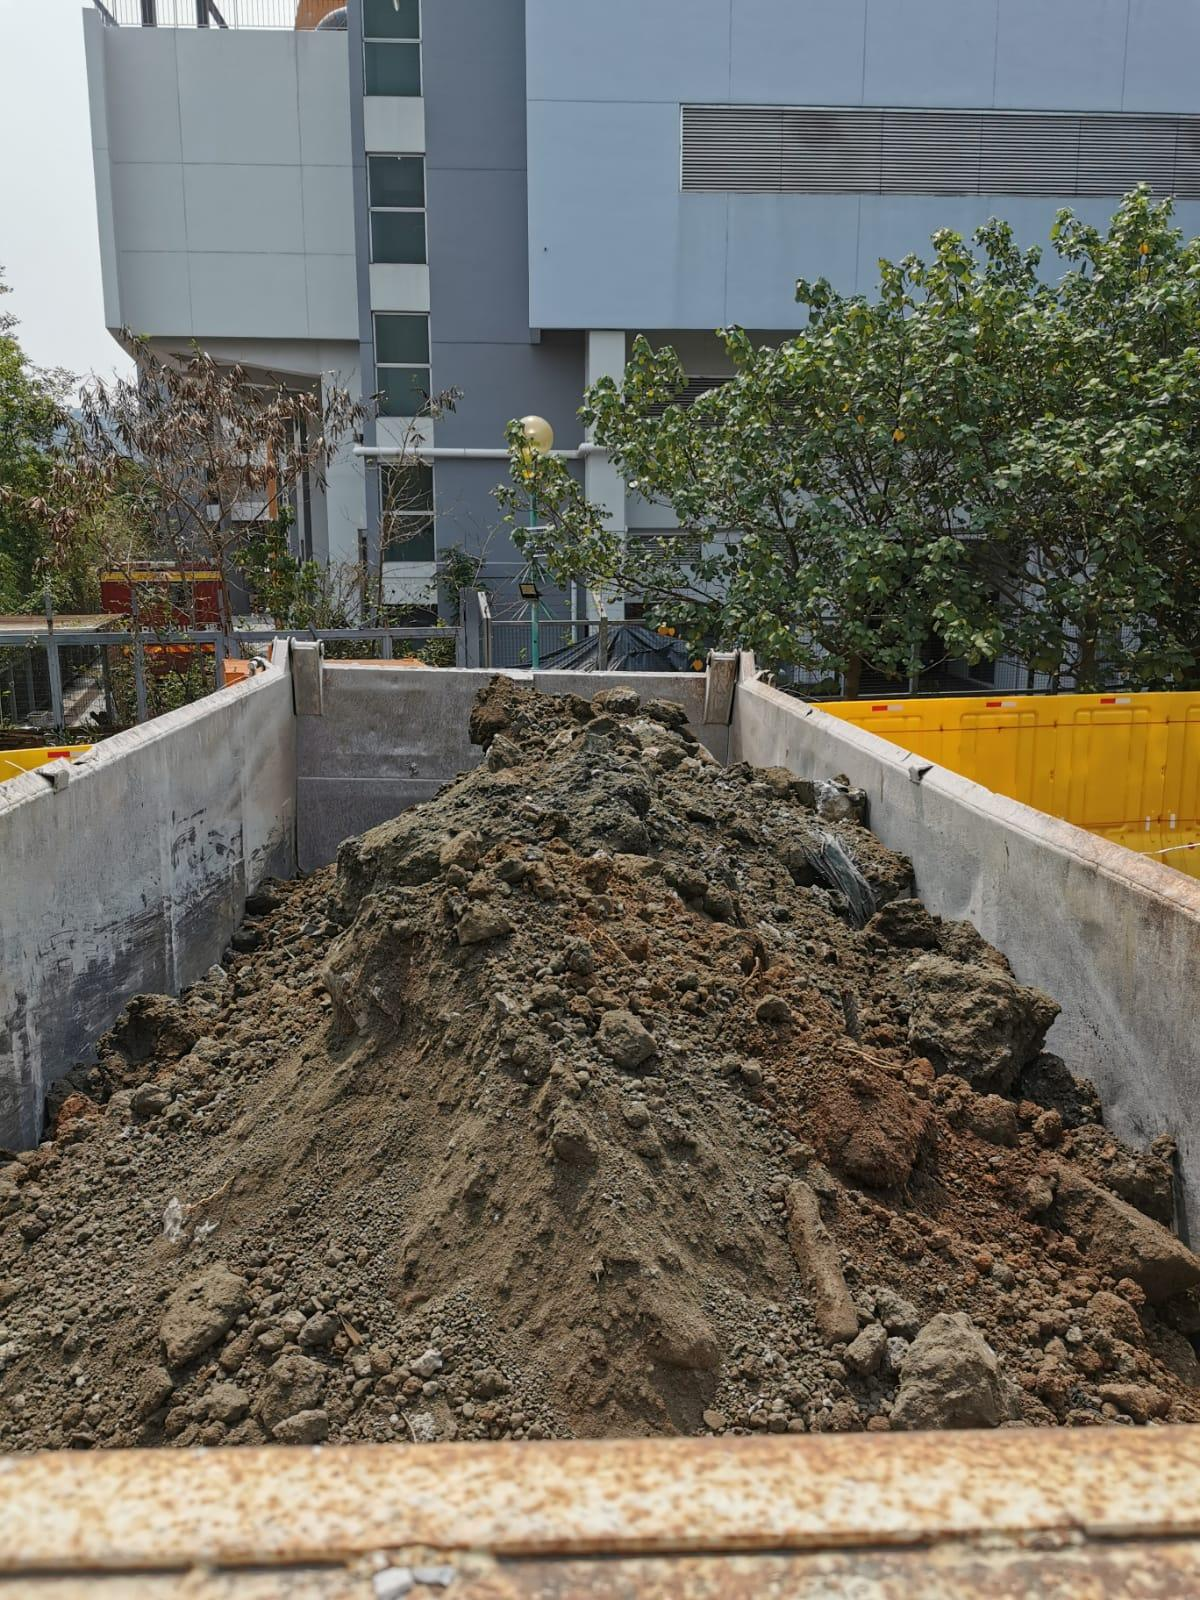dirt: (1, 672, 1197, 1448)
stone: (594, 1006, 658, 1068)
